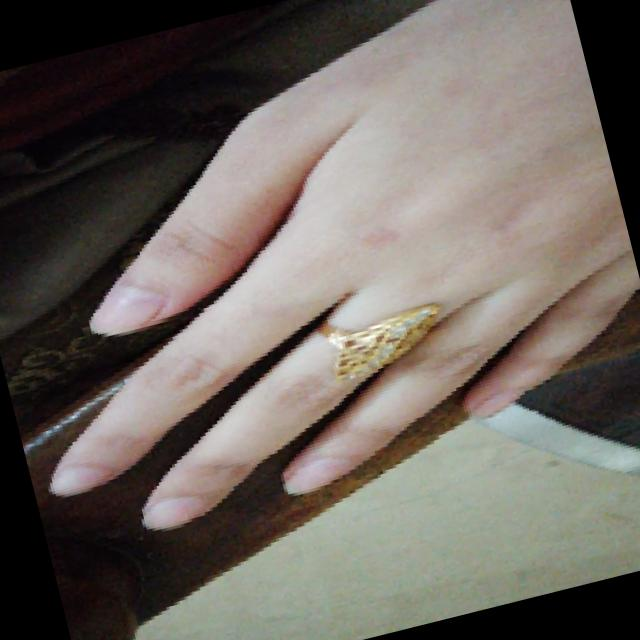Nail: (90, 282, 165, 333), (282, 455, 345, 493), (141, 495, 201, 528), (50, 462, 107, 494), (472, 389, 518, 416)
